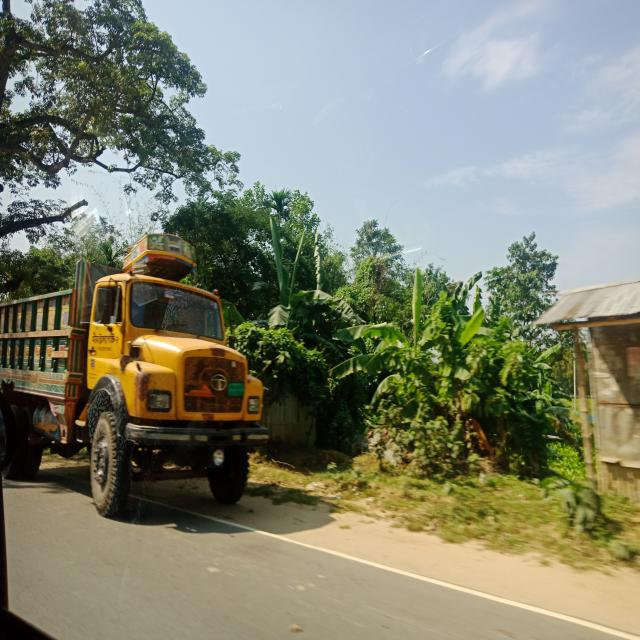truck: (0, 218, 280, 514)
